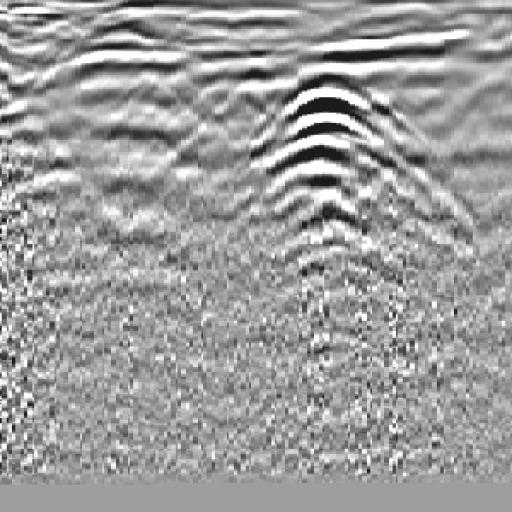metalic: (241, 54, 416, 274)
